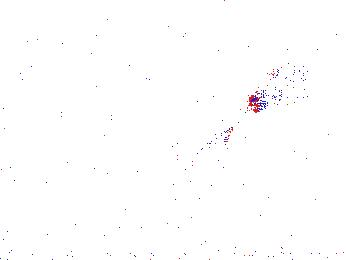flame jellyfish: (173, 125, 234, 187), (148, 169, 208, 229), (249, 61, 312, 112)
